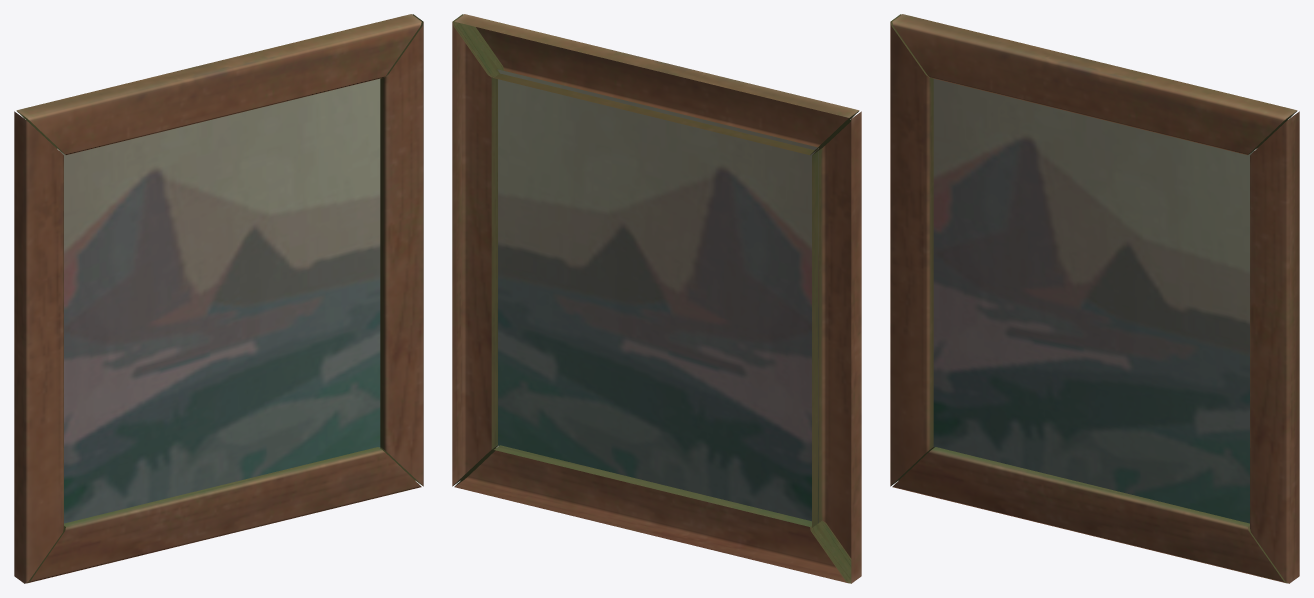
Rendered from SM_Frames_06.fbx.
3 renders of one model, left to right at view 1: azimuth 30°, elevation 25°; view 2: azimuth 150°, elevation 25°; view 3: azimuth 330°, elevation 25°, orthographic.
Parts seen in each view (by area): view 1: SM_Frames_06_LOD0; view 2: SM_Frames_06_LOD0; view 3: SM_Frames_06_LOD0.
Part boxes in pixels (x1,y1,x2,y2): SM_Frames_06_LOD0: (14, 14, 423, 583); SM_Frames_06_LOD0: (452, 14, 861, 583); SM_Frames_06_LOD0: (890, 14, 1299, 583).
Size of the model in its own units: 24.52 by 1.39 by 27.35.
Materials: 1 (1 with a texture image).
